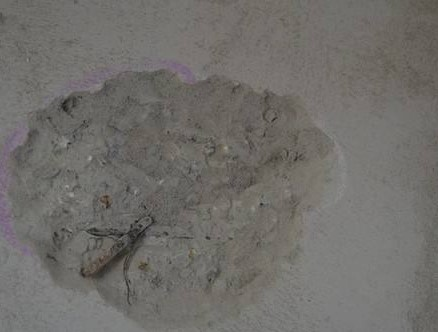Exposed reinforcement: (80, 216, 153, 278)
Spalling: (1, 68, 338, 332)
